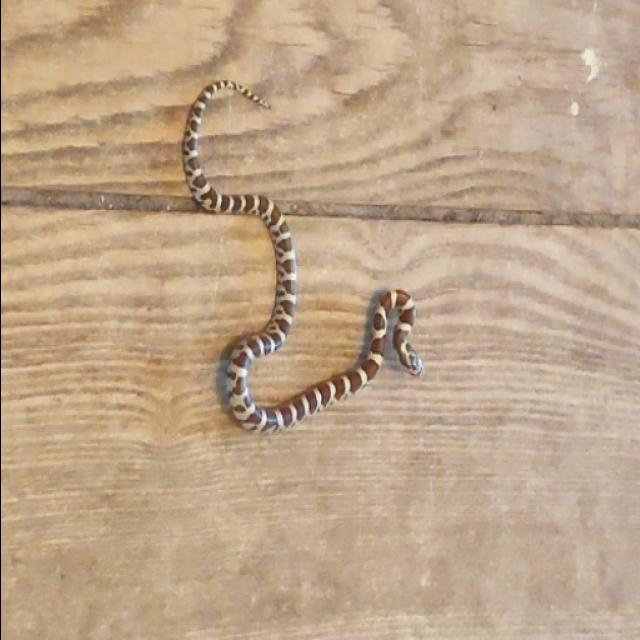snake: (170, 75, 438, 457)
